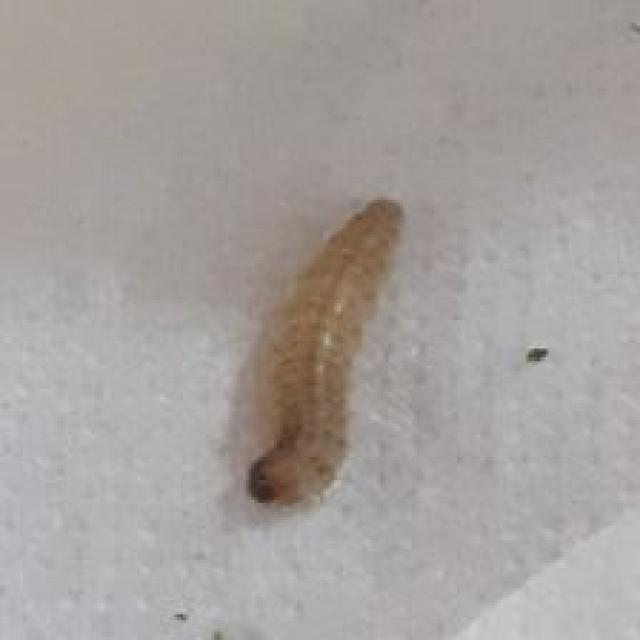white mucus: (187, 176, 453, 561)
